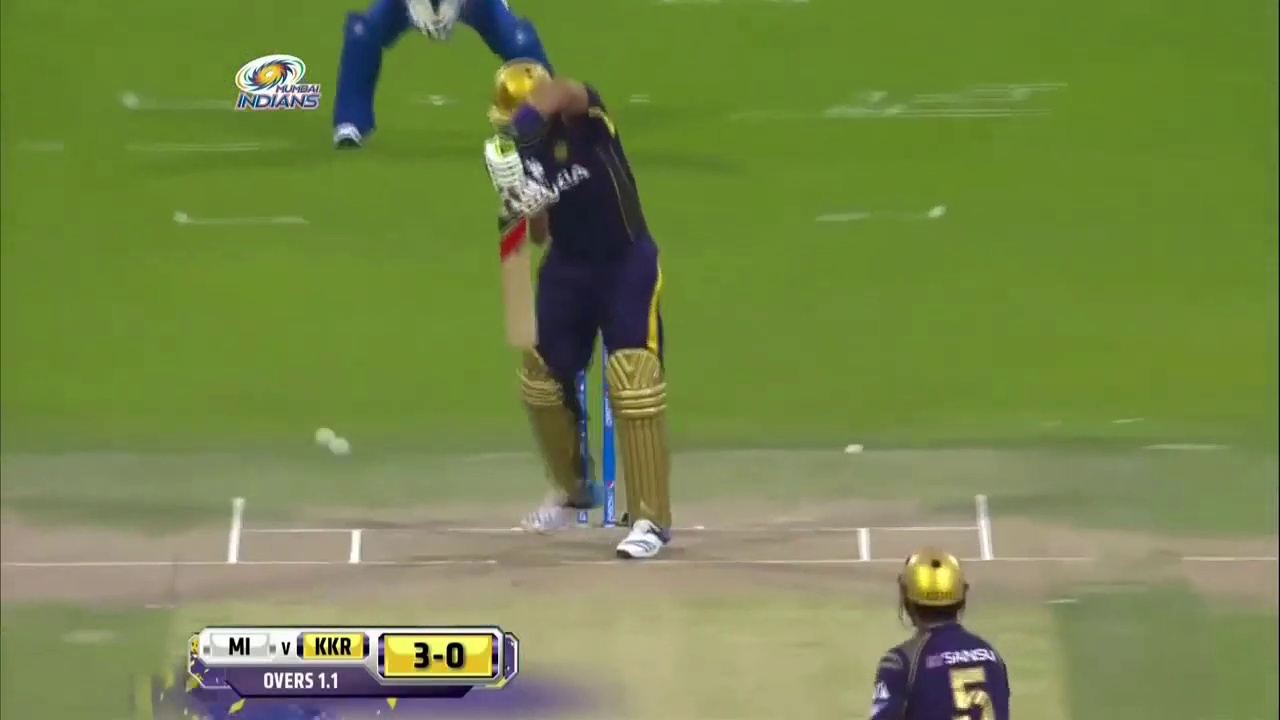bat: (499, 219, 541, 350)
